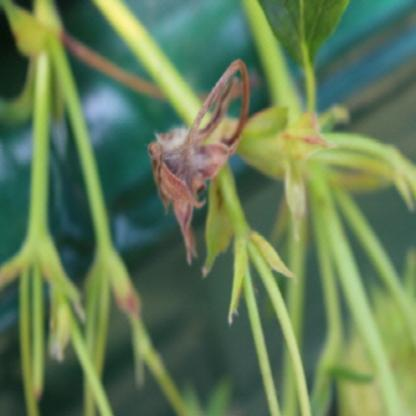Strawberry_Gray_Mold: (148, 58, 251, 268)
